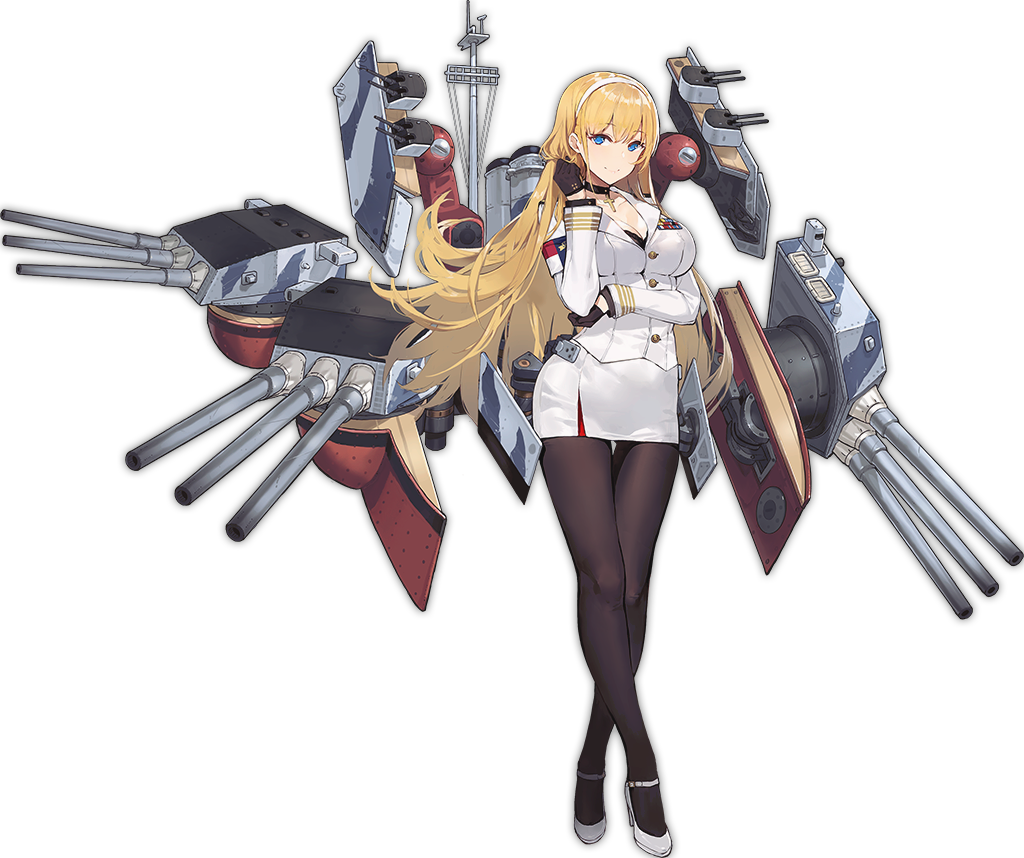person: (344, 71, 754, 778)
